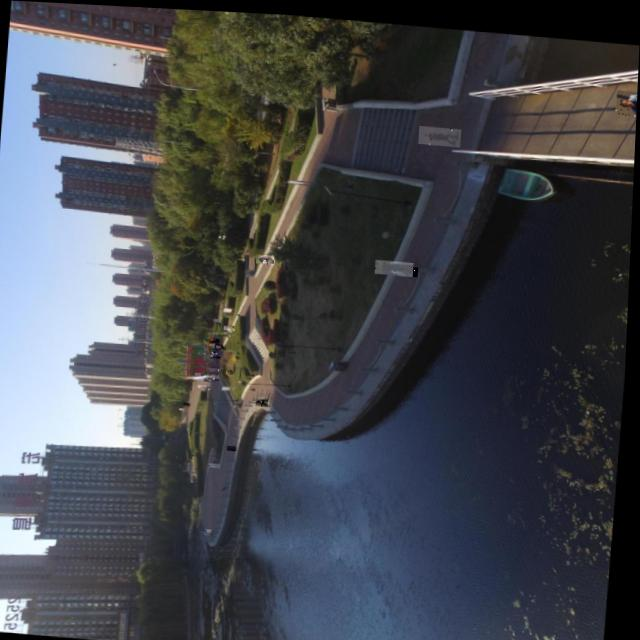Person: (419, 120, 462, 140), (377, 254, 415, 271), (615, 82, 638, 108), (385, 259, 420, 271), (258, 250, 276, 261), (259, 394, 271, 402), (212, 334, 223, 341), (218, 340, 229, 346), (226, 322, 239, 327), (212, 361, 223, 366), (207, 371, 218, 376), (213, 459, 224, 464), (226, 329, 238, 333), (231, 442, 240, 447), (224, 483, 232, 488), (212, 365, 222, 369), (207, 374, 217, 378), (205, 382, 215, 386), (212, 344, 222, 348), (201, 381, 210, 385), (213, 352, 224, 355), (216, 315, 224, 319), (214, 328, 222, 332), (213, 346, 221, 350), (214, 371, 222, 375), (210, 525, 217, 529), (219, 341, 225, 345), (209, 528, 215, 531), (198, 369, 204, 372), (187, 399, 194, 401), (183, 405, 189, 407), (188, 401, 194, 403), (218, 375, 223, 377)
